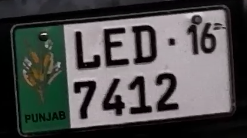LED7412: (4, 4, 242, 134)
